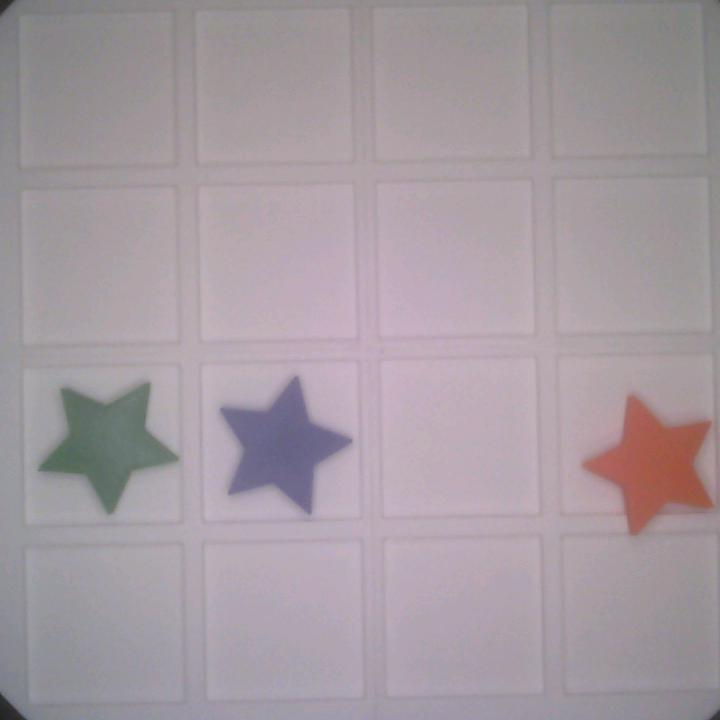Blue star: (213, 373, 354, 517)
Green star: (35, 378, 181, 519)
Orange star: (585, 398, 713, 534)
